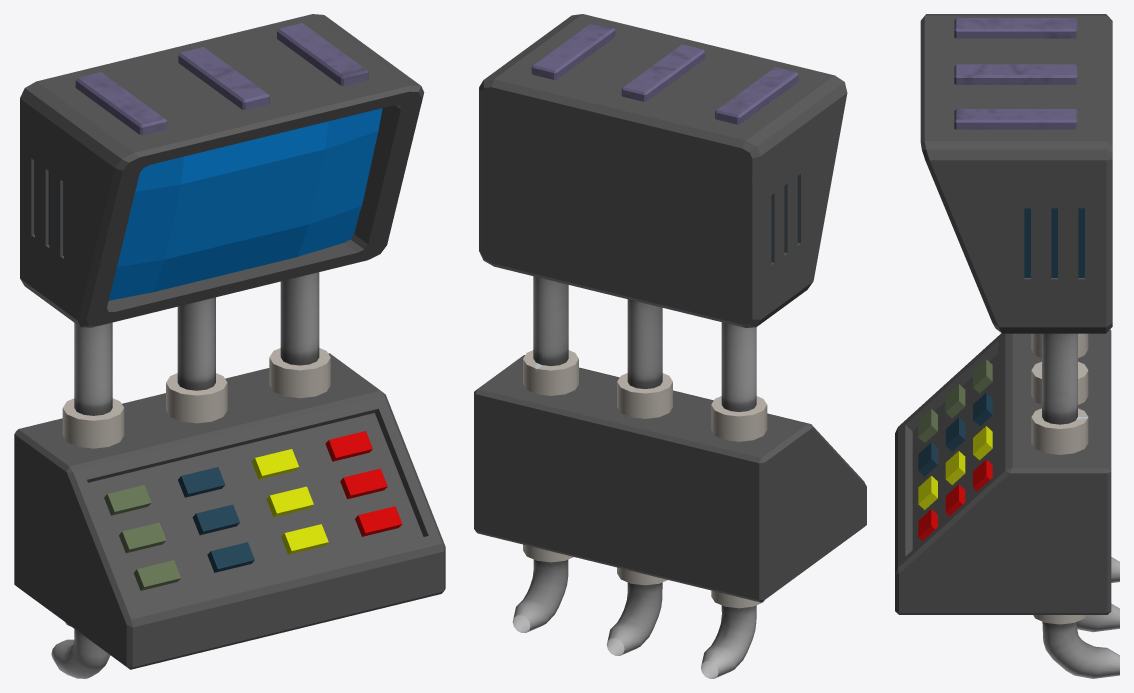
File: WALL_Computer.fbx
The picture shows the model from 3 angles, left to right: view 1: azimuth 30°, elevation 25°; view 2: azimuth 150°, elevation 25°; view 3: azimuth 270°, elevation 25°; orthographic projection. The views are drawn at different scales.
Parts seen in each view (by area): view 1: WALL_Computer; view 2: WALL_Computer; view 3: WALL_Computer.
Boxes of the visible parts, x1,y1,x2,y2 form: WALL_Computer: (14, 14, 445, 678); WALL_Computer: (474, 14, 866, 678); WALL_Computer: (895, 14, 1119, 678).
Size of the model in its own units: 64.92 by 118 by 42.72.
